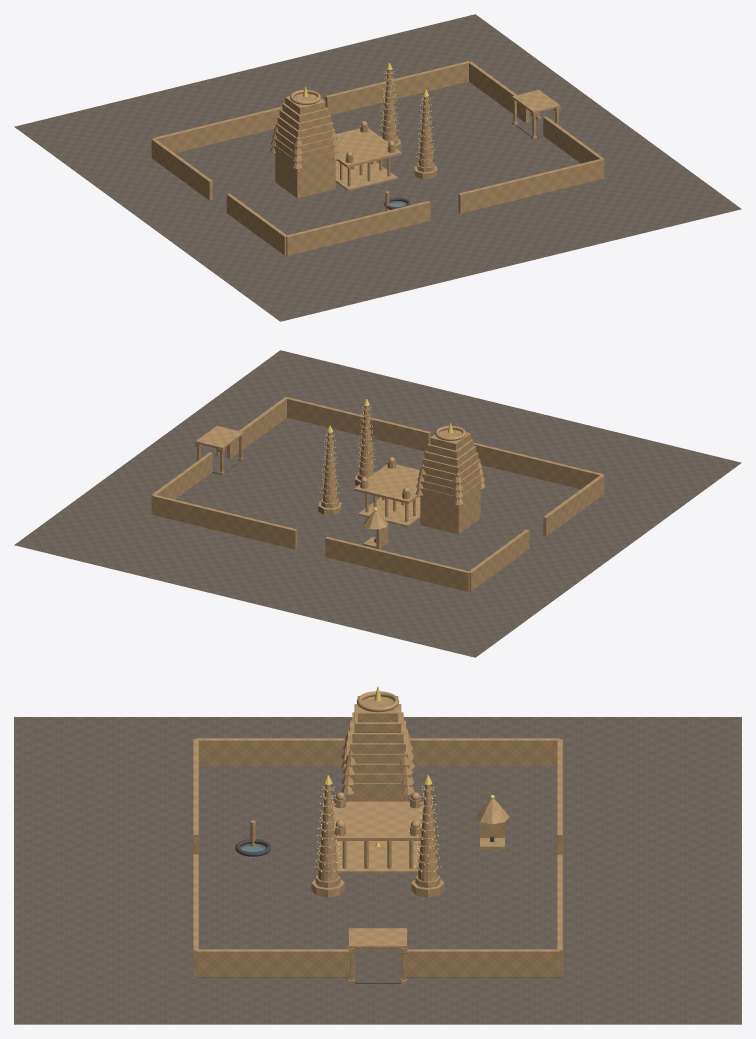
The model's file is ujjain_mahakali_kshetra_full.glb.
3 renders of one model, top to bottom at view 1: azimuth 30°, elevation 25°; view 2: azimuth 150°, elevation 25°; view 3: azimuth 270°, elevation 25°, orthographic. The views are drawn at different scales.
Parts seen in each view (by area): view 1: Ground_Main, Harsiddhi_Enclosure_S_R, Harsiddhi_Enclosure_S_L, Mandapa, Harsiddhi_Enclosure_N_R, Harsiddhi_Enclosure_N_L, Garbhagriha, Harsiddhi_Enclosure_W_R, Harsiddhi_Enclosure_W_L, Harsiddhi_Enclosure_E_R, Harsiddhi_Enclosure_E_L, Deepastambha_Left (+3 smaller); view 2: Ground_Main, Harsiddhi_Enclosure_N_R, Harsiddhi_Enclosure_N_L, Mandapa, Harsiddhi_Enclosure_S_R, Harsiddhi_Enclosure_S_L, Garbhagriha, Harsiddhi_Enclosure_W_L, Harsiddhi_Enclosure_W_R, Harsiddhi_Enclosure_E_L, Harsiddhi_Enclosure_E_R, Deepastambha_Right (+4 smaller); view 3: Ground_Main, Mandapa, Harsiddhi_Enclosure_E_L, Harsiddhi_Enclosure_E_R, Harsiddhi_Enclosure_W_L, Harsiddhi_Enclosure_W_R, Deepastambha_Left, Deepastambha_Right, Karkoteshwar_Shiva, Harsiddhi_East_Gateway_Roof, Harsiddhi_East_Gateway_Floor, Mahakali_Shikhara_Tier_8 (+11 smaller).
Boxes of the visible parts, x1=… form: Ground_Main: x1=14, y1=14, x2=741, y2=321; Harsiddhi_Enclosure_S_R: x1=458, y1=158, x2=603, y2=213; Harsiddhi_Enclosure_S_L: x1=286, y1=201, x2=430, y2=255; Mandapa: x1=335, y1=121, x2=401, y2=190; Harsiddhi_Enclosure_N_R: x1=325, y1=61, x2=468, y2=115; Harsiddhi_Enclosure_N_L: x1=152, y1=106, x2=282, y2=153; Garbhagriha: x1=275, y1=153, x2=335, y2=198; Harsiddhi_Enclosure_W_R: x1=151, y1=139, x2=212, y2=200; Harsiddhi_Enclosure_W_L: x1=226, y1=193, x2=286, y2=255; Harsiddhi_Enclosure_E_R: x1=468, y1=61, x2=529, y2=122; Harsiddhi_Enclosure_E_L: x1=543, y1=116, x2=604, y2=177; Deepastambha_Left: x1=414, y1=89, x2=437, y2=178; Ground_Main: x1=14, y1=350, x2=741, y2=657; Harsiddhi_Enclosure_N_R: x1=152, y1=494, x2=297, y2=549; Harsiddhi_Enclosure_N_L: x1=325, y1=537, x2=469, y2=591; Mandapa: x1=354, y1=457, x2=420, y2=526; Harsiddhi_Enclosure_S_R: x1=286, y1=397, x2=430, y2=451; Harsiddhi_Enclosure_S_L: x1=473, y1=442, x2=603, y2=489; Garbhagriha: x1=420, y1=489, x2=480, y2=534; Harsiddhi_Enclosure_W_L: x1=543, y1=475, x2=604, y2=536; Harsiddhi_Enclosure_W_R: x1=468, y1=529, x2=529, y2=591; Harsiddhi_Enclosure_E_L: x1=226, y1=397, x2=287, y2=458; Harsiddhi_Enclosure_E_R: x1=151, y1=452, x2=212, y2=513; Deepastambha_Right: x1=318, y1=425, x2=341, y2=514; Ground_Main: x1=14, y1=717, x2=741, y2=1024; Mandapa: x1=332, y1=792, x2=423, y2=872; Harsiddhi_Enclosure_E_L: x1=196, y1=949, x2=354, y2=977; Harsiddhi_Enclosure_E_R: x1=401, y1=949, x2=559, y2=977; Harsiddhi_Enclosure_W_L: x1=196, y1=738, x2=345, y2=766; Harsiddhi_Enclosure_W_R: x1=410, y1=738, x2=559, y2=766; Deepastambha_Left: x1=311, y1=775, x2=344, y2=897; Deepastambha_Right: x1=411, y1=775, x2=444, y2=897; Karkoteshwar_Shiva: x1=475, y1=795, x2=509, y2=849; Harsiddhi_East_Gateway_Roof: x1=349, y1=928, x2=406, y2=948; Harsiddhi_East_Gateway_Floor: x1=354, y1=967, x2=401, y2=983; Mahakali_Shikhara_Tier_8: x1=357, y1=696, x2=398, y2=722.
Bounding box in the file's own units: 70 × 14.41 × 70.
Materials: 16 (2 with a texture image).
